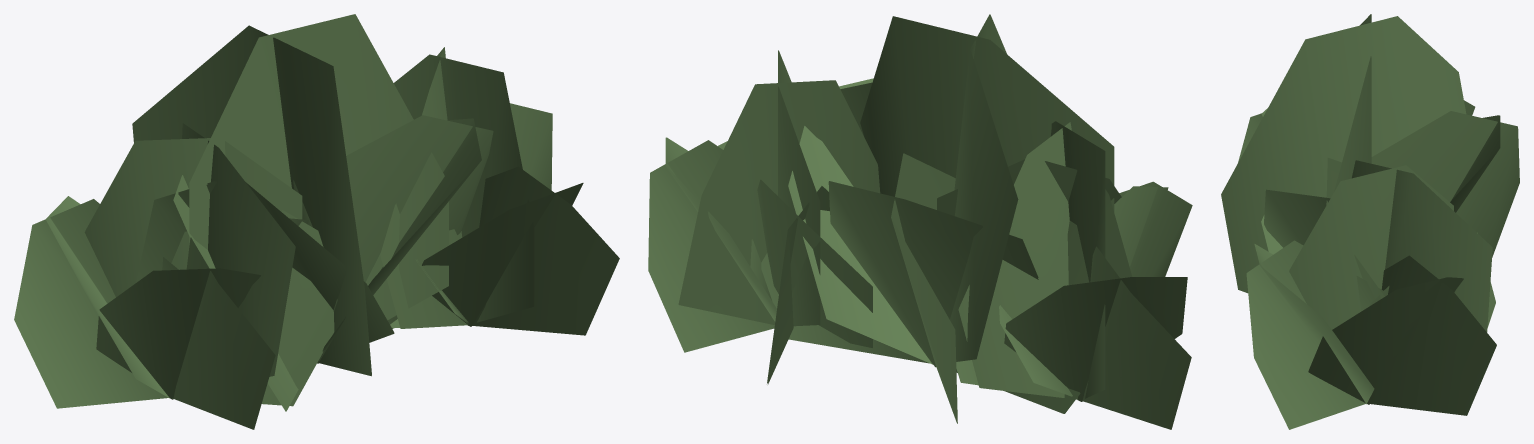
The model's file is Bush_Large.fbx.
3 views of the same model, side by side, from view 1: azimuth 30°, elevation 25°; view 2: azimuth 150°, elevation 25°; view 3: azimuth 270°, elevation 25° (orthographic). The views are drawn at different scales.
Parts seen in each view (by area): view 1: Bush_Large; view 2: Bush_Large; view 3: Bush_Large.
Part boxes in pixels (x1,y1,x2,y2): Bush_Large: (14,14,619,429); Bush_Large: (648,14,1192,429); Bush_Large: (1221,14,1519,429).
Size of the model in its own units: 231 by 144 by 127.
